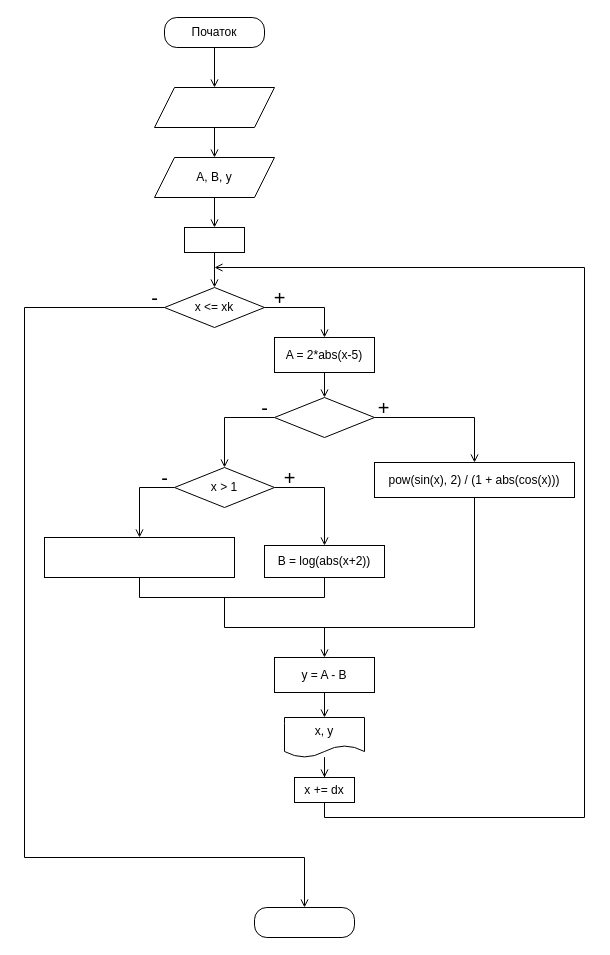
Image size: 610x955. Some labels were removed from this diagram. Here are the shapes that lost their labels. From the top down, the centre of each, then its label:
(214,107): xp, xk, dx
(214,239): x = xp
(324,417): x < -1
(139,557): B = pow(cos(1. / abs(x + 2)), 2)
(304,922): Кінець
